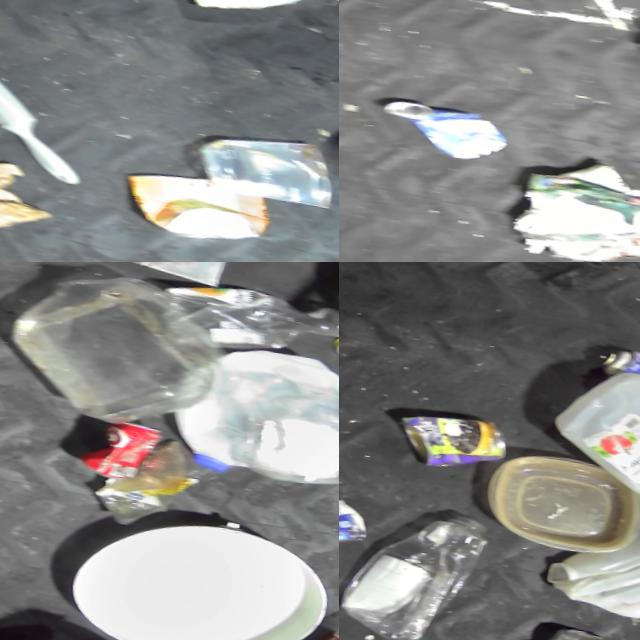can: (391, 398, 514, 476), (81, 408, 167, 481), (589, 335, 640, 414), (523, 612, 626, 640)
milk_jug: (163, 326, 339, 487), (540, 350, 640, 517), (541, 473, 640, 639)
plastic_bottle: (339, 490, 495, 640), (289, 606, 339, 640)
